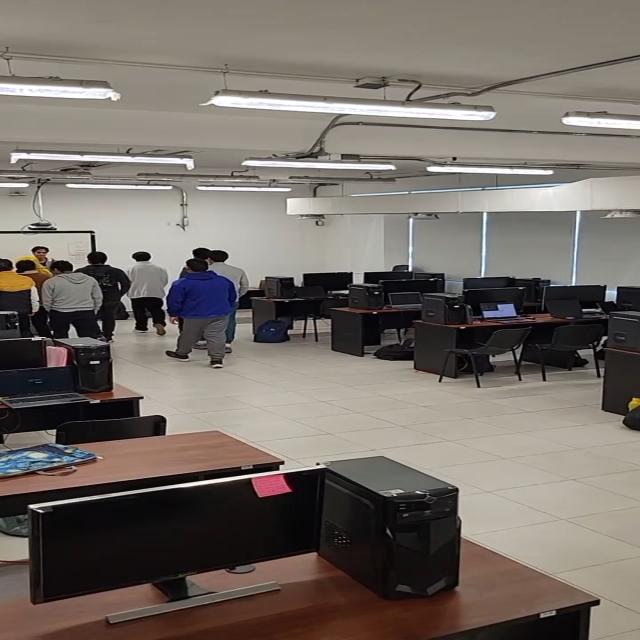Persona: (164, 258, 238, 369), (184, 246, 252, 354), (75, 250, 132, 346), (39, 260, 103, 342), (121, 251, 168, 335), (0, 258, 39, 337), (15, 256, 47, 291), (31, 248, 56, 278)
